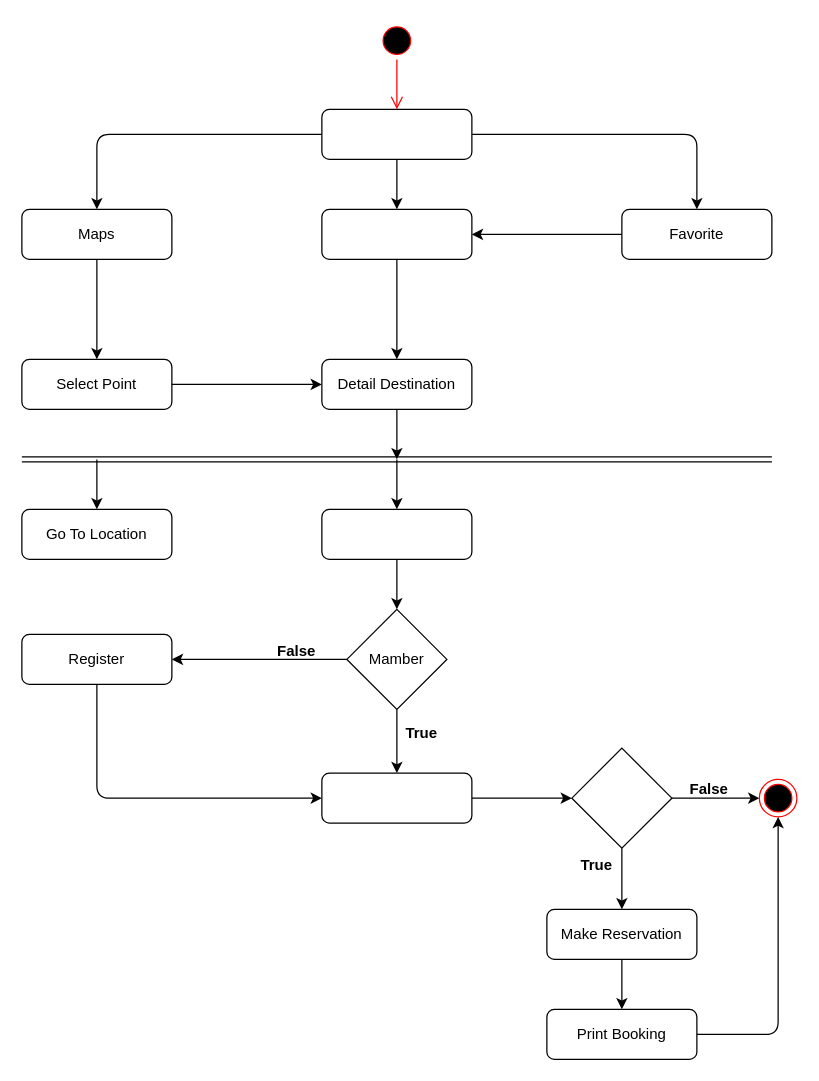
Image size: 819x1081. Some labels were removed from this diagram. The centre of each missing label's shape, as x and y in pixels:
Booking: the point at 396,533
Find Plan: the point at 396,133
Home/List Destination: the point at 396,233
Payment: the point at 396,797
